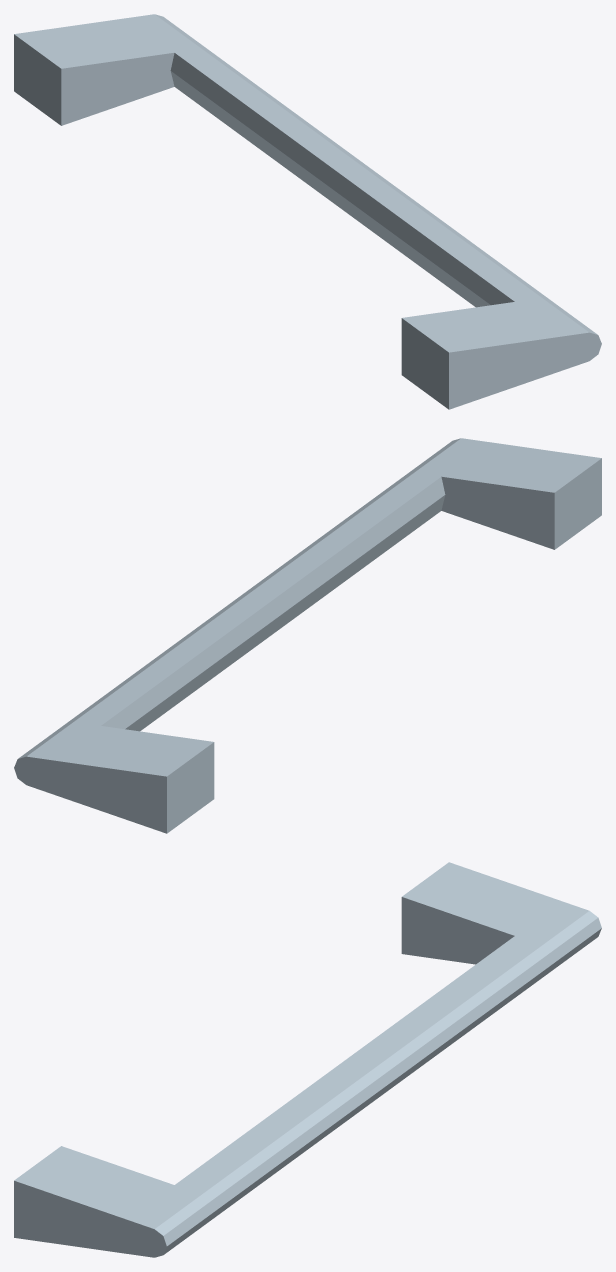
Rendered from mobile-kitchen-counter__SwingDoorMiddle_handle.obj.
The picture shows the model from 3 angles, top to bottom: view 1: azimuth 30°, elevation 25°; view 2: azimuth 150°, elevation 25°; view 3: azimuth 330°, elevation 25°; orthographic projection.
Visible parts, largest first — view 1: handle.004_o36_IndexedFaceSet; view 2: handle.004_o36_IndexedFaceSet; view 3: handle.004_o36_IndexedFaceSet.
Boxes of the visible parts, x1,y1,x2,y2 form: handle.004_o36_IndexedFaceSet: [14, 14, 601, 409]; handle.004_o36_IndexedFaceSet: [14, 438, 601, 833]; handle.004_o36_IndexedFaceSet: [14, 862, 601, 1257].
Size of the model in its own units: 0.0392 by 0.014 by 0.193.
